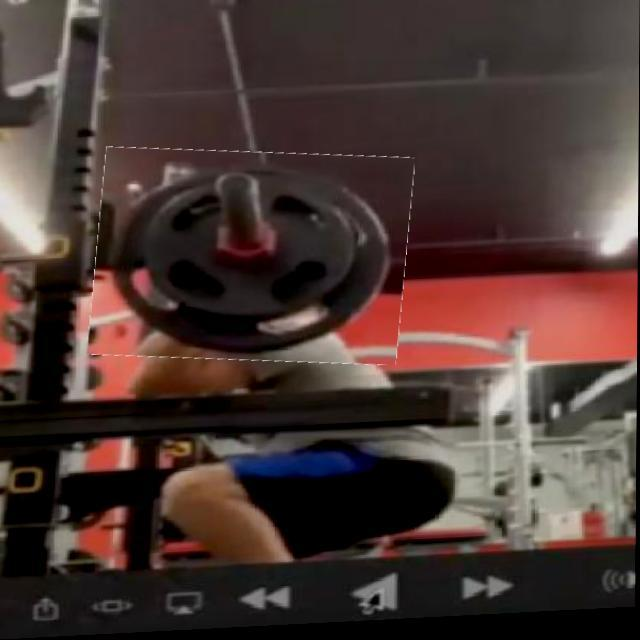barbell: (93, 143, 412, 376)
